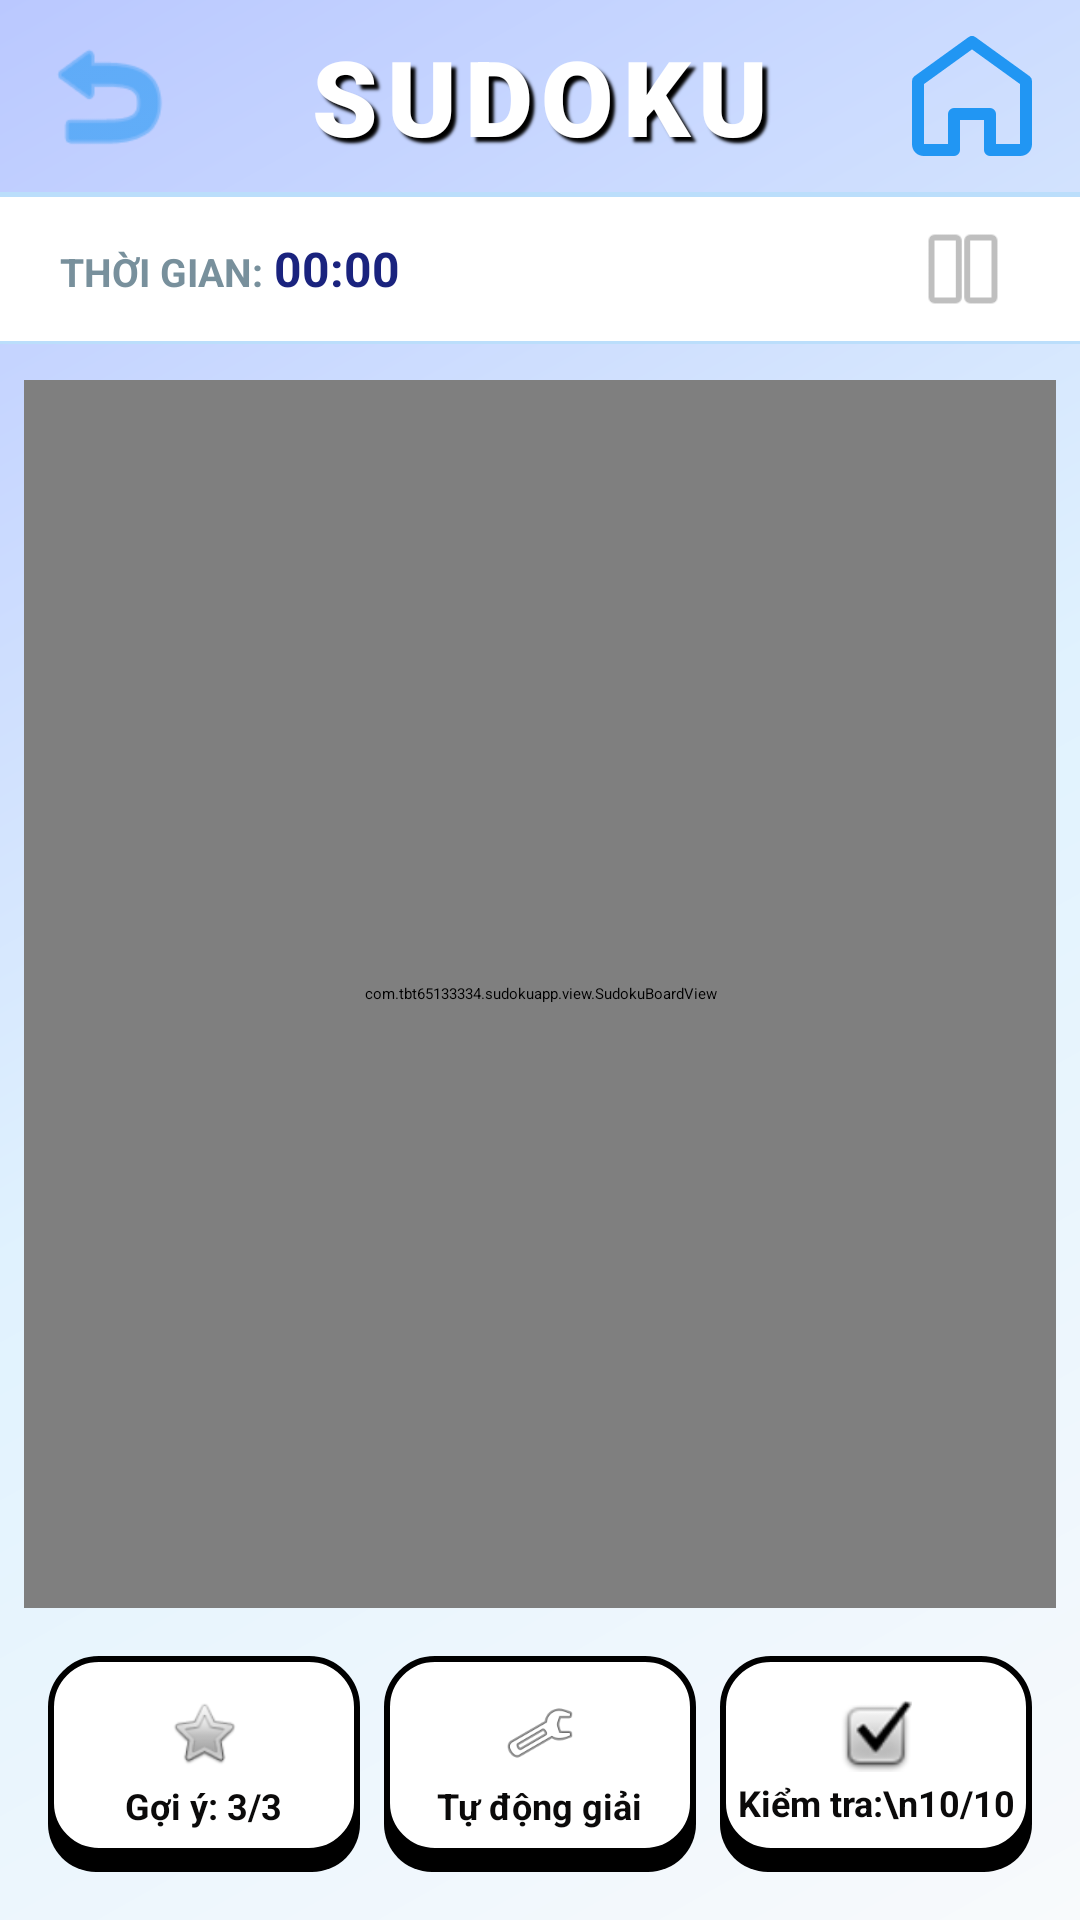

Screen size 1080×1920. Icon name, then its box in pixels as box=[x1, y1, x2, y2]:
Back: box=[58, 50, 162, 144]
Home: box=[912, 36, 1032, 156]
manage: box=[507, 1708, 572, 1758]
pause: box=[928, 234, 998, 304]
star off: box=[175, 1704, 235, 1763]
